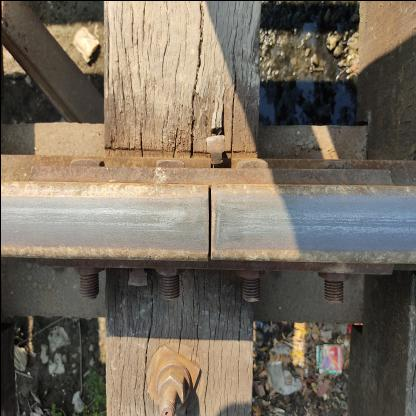Non Defective: (8, 99, 396, 342)
